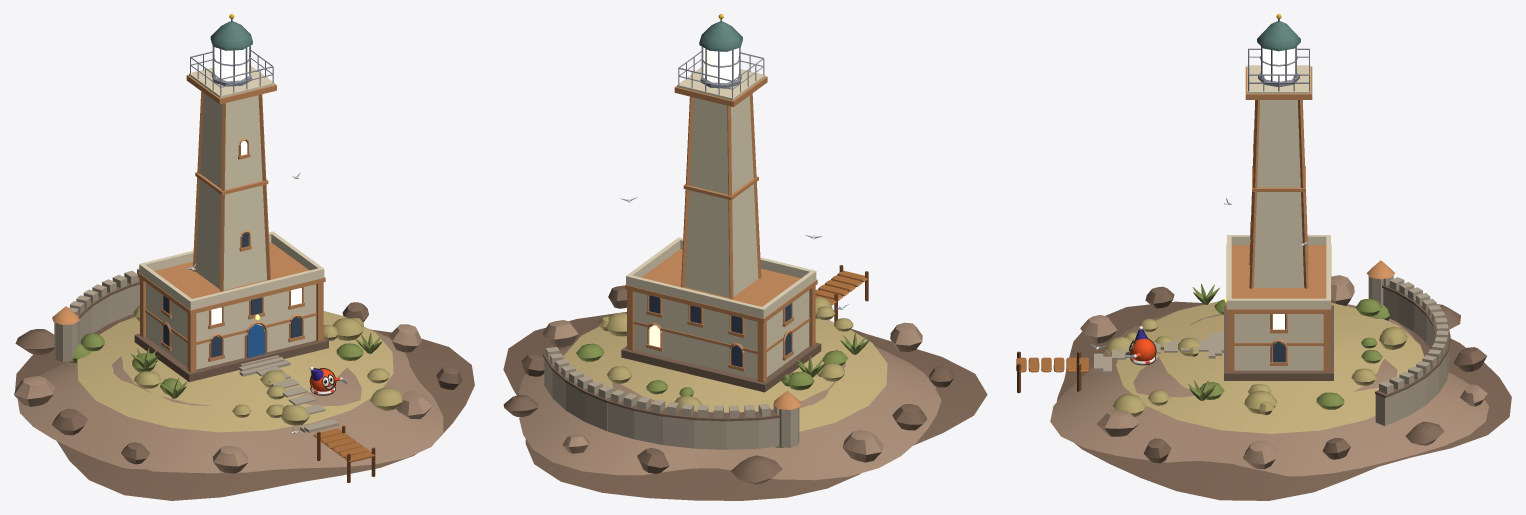
Rendered from faro.glb.
3 views of the same model, side by side, from view 1: azimuth 30°, elevation 25°; view 2: azimuth 150°, elevation 25°; view 3: azimuth 270°, elevation 25° (orthographic). The views are drawn at different scales.
Visible parts, largest first — view 1: faro_isla; view 2: faro_isla; view 3: faro_isla.
Part boxes in pixels (x1,y1,x2,y2): faro_isla: (14, 14, 474, 500); faro_isla: (503, 14, 987, 500); faro_isla: (1016, 14, 1511, 500).
Size of the model in its own units: 16.29 by 14.58 by 17.11.
